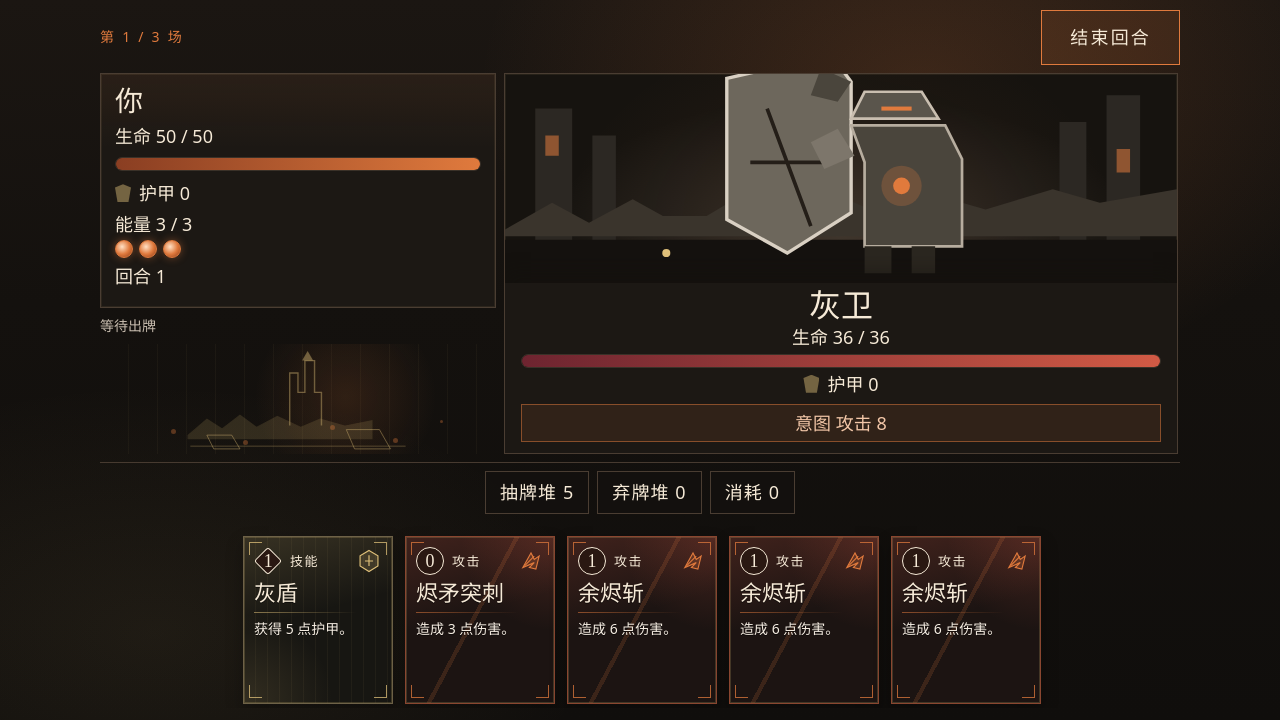
Test: 战斗反馈 › 结束回合立即结算敌人攻击和玩家受击
Step 1. Click the button "结束回合" → coordinates (1111, 37), box [1041,10,1180,65]
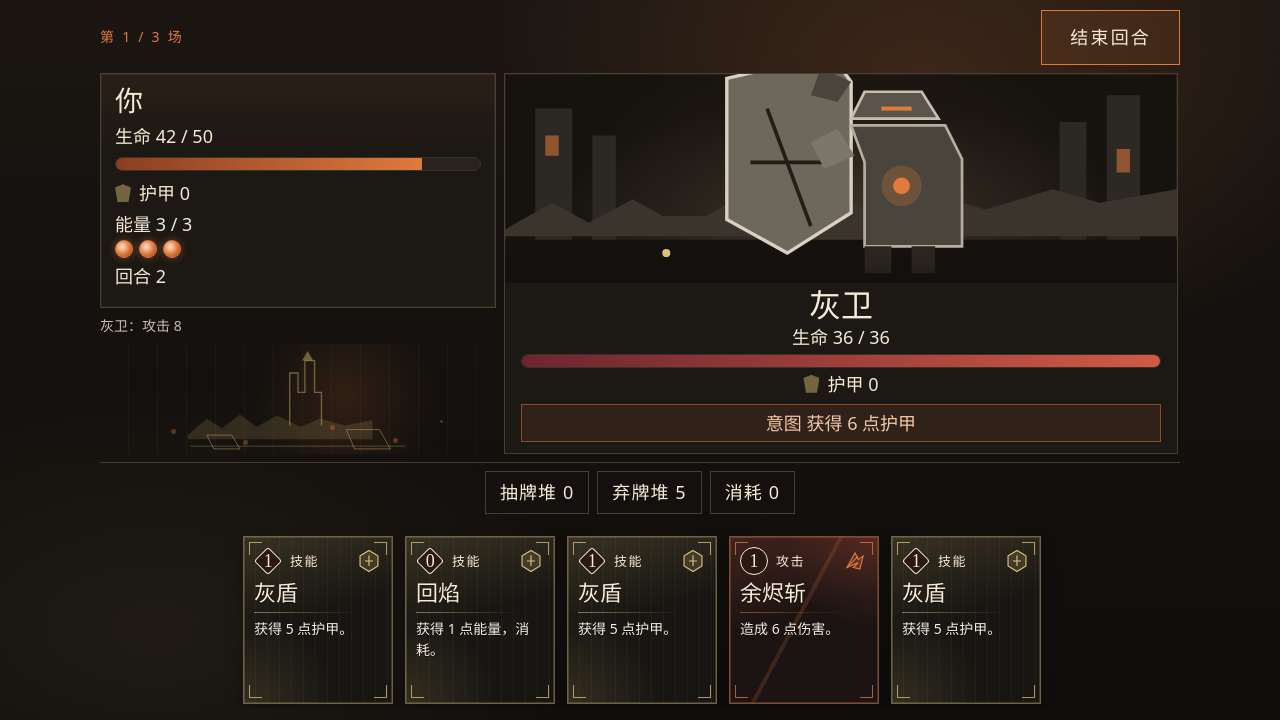
expect the text "能量 3 / 3" is shown: met, box [115,212,192,236]
expect the text "生命 42 / 50" is shown: met, box [115,124,213,148]
expect the text "意图 获得 6 点护甲" is shown: met, box [521,404,1161,442]
